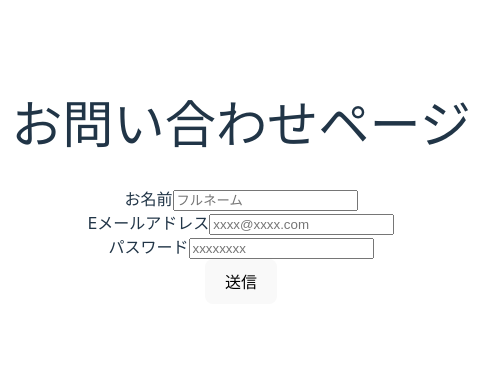
Test: Contact Page Tests › should show validation errors on empty submit
Click the submit button.
click(241, 282)  # box [205,259,277,304]
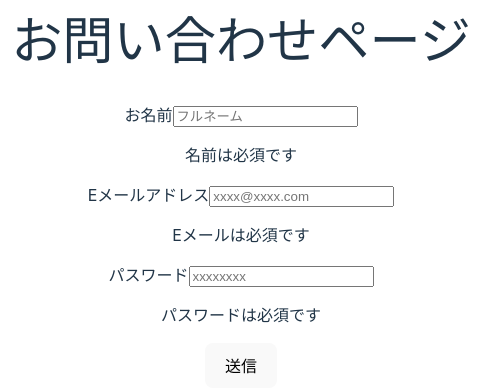
Result: the text "名前は必須です" is shown at [185,145,297,165]
Result: the text "Eメールは必須です" is shown at [172,225,310,245]
Result: the text "パスワードは必須です" is shown at [161,305,321,325]
